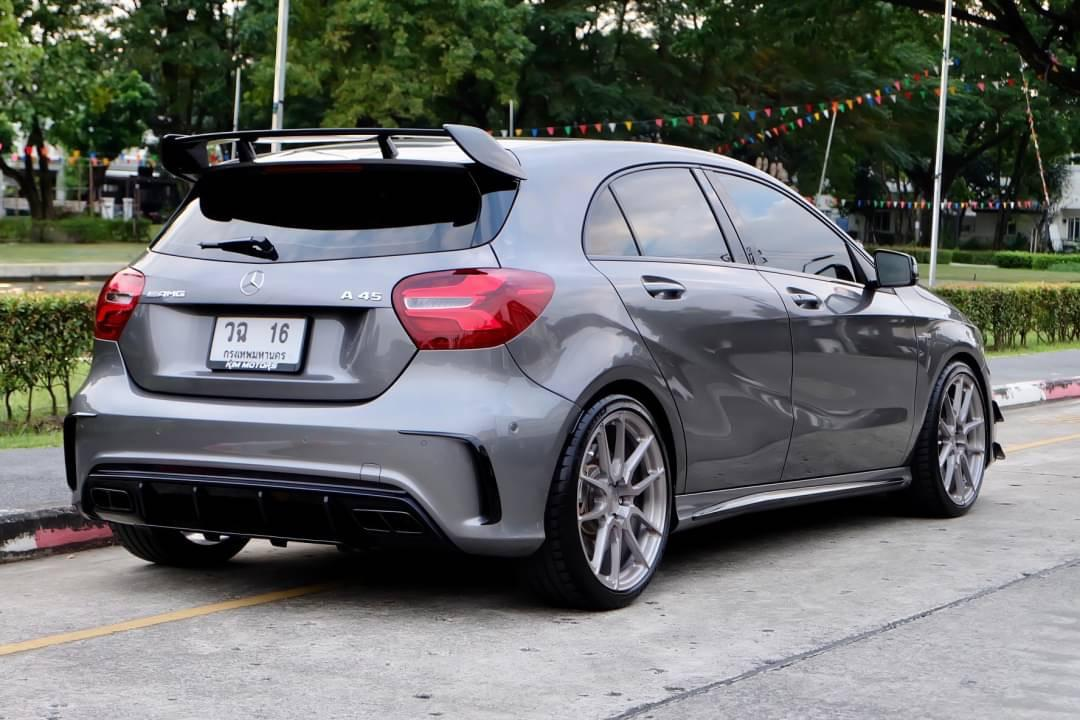license-plate: (202, 308, 312, 376)
